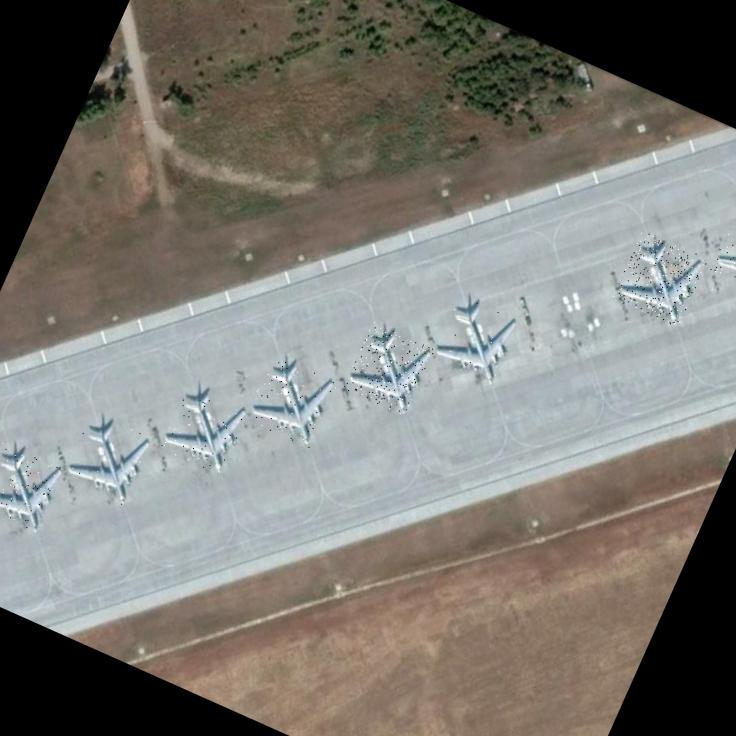A17: (612, 230, 708, 328), (428, 291, 523, 387), (243, 353, 338, 448), (60, 411, 154, 506), (342, 321, 434, 416), (158, 383, 248, 475), (0, 440, 63, 531), (710, 201, 736, 298)
